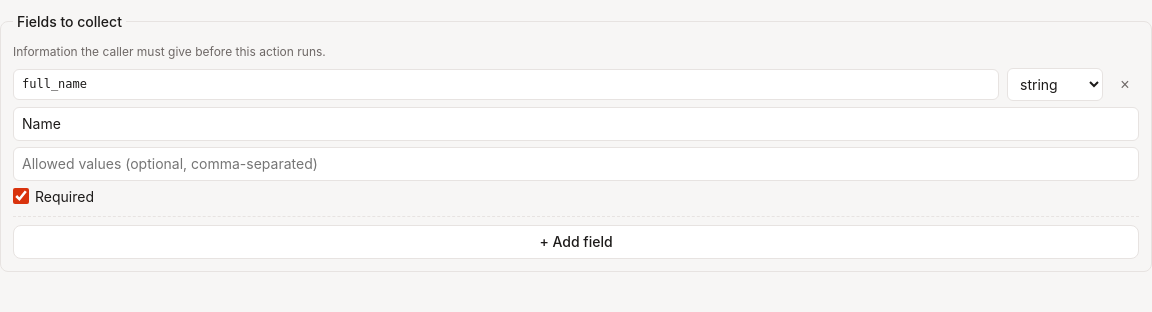
Test: FieldsEditor › rejects an invalid name and reverts it on blur
The image size is (1152, 312).
Replace the text in the field named "Field name" with "2bad" at (506, 85), box [13,70,999,100]
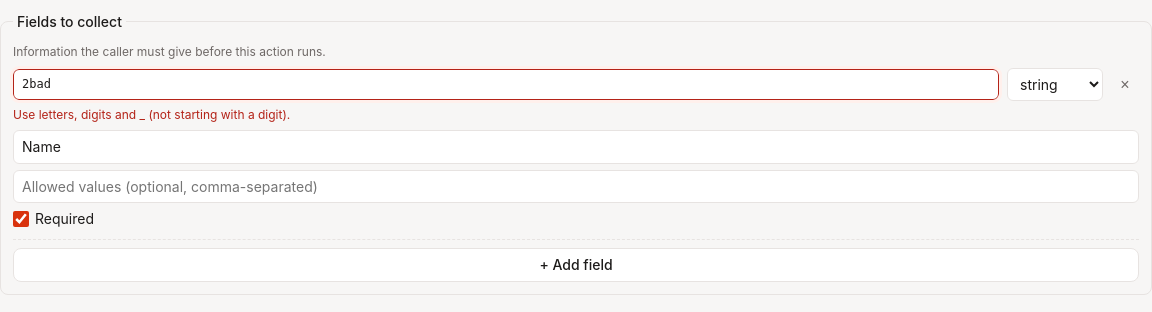
Check: the message shows "letters, digits", box [13,107,290,122]
Press Tab
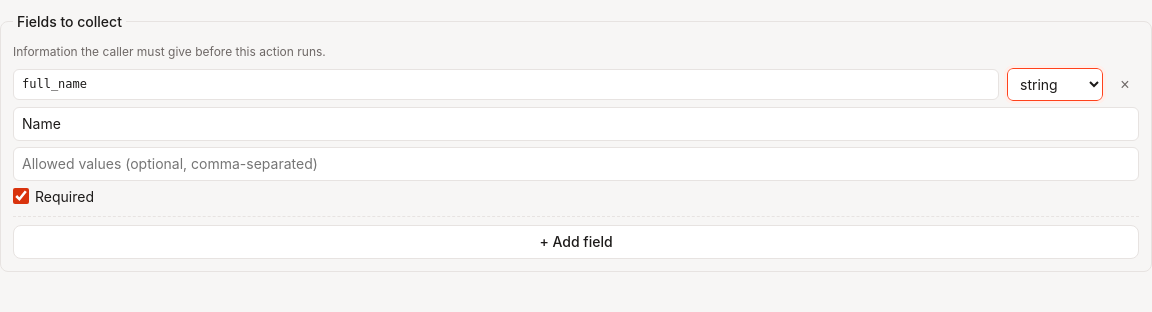
Check: the field named "Field name" holds "full_name", box [13,70,999,100]
